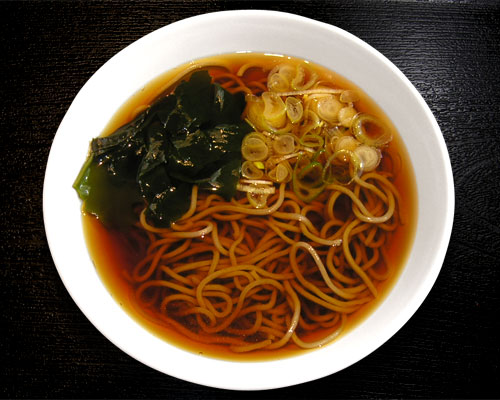Soba: (135, 54, 402, 359)
